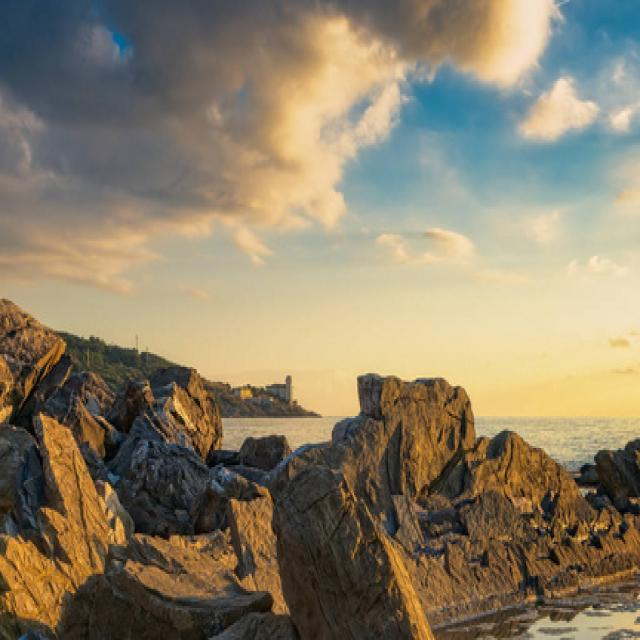reef: (304, 383, 631, 596)
